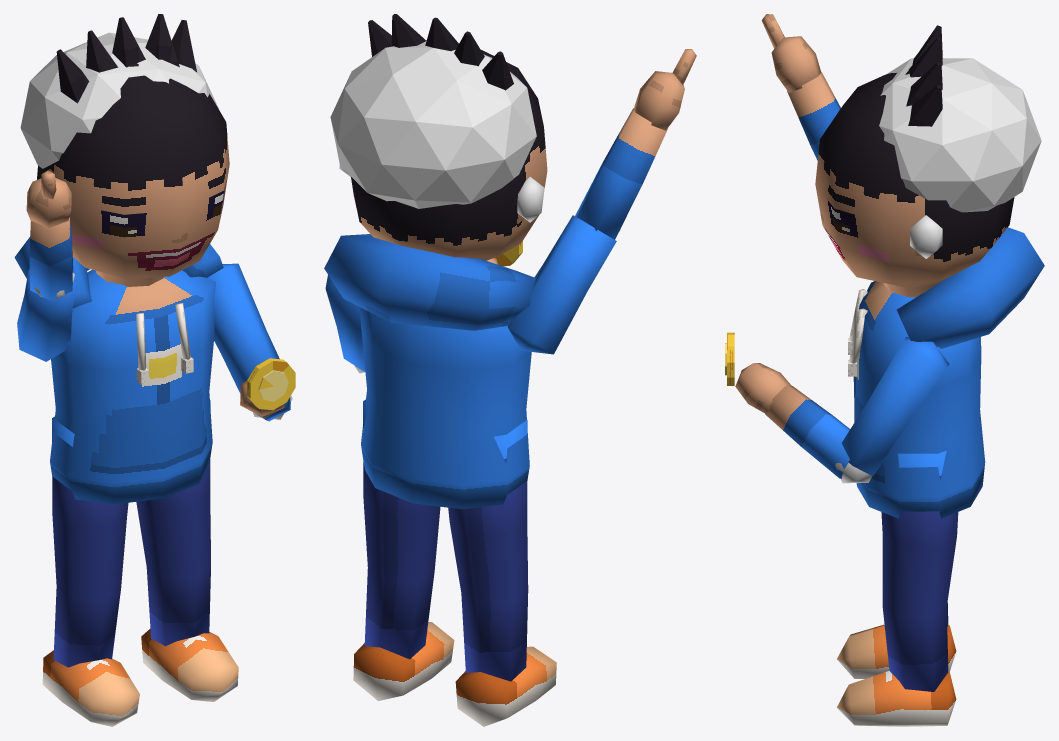
The model's file is Kid Hoodie.fbx.
3 views of the same model, side by side, from view 1: azimuth 30°, elevation 25°; view 2: azimuth 150°, elevation 25°; view 3: azimuth 270°, elevation 25° (orthographic). The views are drawn at different scales.
Visible parts, largest first — view 1: Kid Hoodie torso, Kid Hoodie head, Kid Hoodie leg R.001, Kid Hoodie leg L.001, Kid Hoodie hair hair cap, Kid Hoodie arm L upper, Kid Hoodie shoe L, Kid Hoodie shoe R, Kid Hoodie arm R upper, Kid Hoodie arm R forearm.001, Kid Hoodie hood, Kid Hoodie arm R hand (+9 smaller); view 2: Kid Hoodie torso, Kid Hoodie hair hair cap, Kid Hoodie hood, Kid Hoodie leg R.001, Kid Hoodie leg L.001, Kid Hoodie head, Kid Hoodie arm R upper, Kid Hoodie arm R forearm.001, Kid Hoodie shoe R, Kid Hoodie shoe L, Kid Hoodie arm R hand, Kid Hoodie arm L upper (+5 smaller); view 3: Kid Hoodie head, Kid Hoodie hair hair cap, Kid Hoodie torso, Kid Hoodie leg L.001, Kid Hoodie hood, Kid Hoodie arm L upper, Kid Hoodie shoe L, Kid Hoodie arm L forearm.001, Kid Hoodie shoe R, Kid Hoodie arm R forearm.001, Kid Hoodie arm R hand, Kid Hoodie arm L hand (+4 smaller).
Part boxes in pixels (x1=…): Kid Hoodie torso: x1=50, y1=269, x2=215, y2=504; Kid Hoodie head: x1=37, y1=63, x2=229, y2=286; Kid Hoodie leg R.001: x1=52, y1=416, x2=128, y2=667; Kid Hoodie leg L.001: x1=136, y1=400, x2=210, y2=646; Kid Hoodie hair hair cap: x1=20, y1=32, x2=219, y2=168; Kid Hoodie arm L upper: x1=207, y1=263, x2=279, y2=392; Kid Hoodie shoe L: x1=141, y1=629, x2=238, y2=701; Kid Hoodie shoe R: x1=42, y1=650, x2=139, y2=726; Kid Hoodie arm R upper: x1=17, y1=269, x2=74, y2=361; Kid Hoodie arm R forearm.001: x1=29, y1=217, x2=73, y2=300; Kid Hoodie hood: x1=14, y1=236, x2=223, y2=308; Kid Hoodie arm R hand: x1=26, y1=178, x2=71, y2=228; Kid Hoodie torso: x1=359, y1=307, x2=531, y2=509; Kid Hoodie hair hair cap: x1=330, y1=41, x2=536, y2=208; Kid Hoodie hood: x1=324, y1=234, x2=536, y2=330; Kid Hoodie leg R.001: x1=448, y1=420, x2=528, y2=681; Kid Hoodie leg L.001: x1=363, y1=399, x2=440, y2=659; Kid Hoodie head: x1=351, y1=50, x2=547, y2=260; Kid Hoodie arm R upper: x1=508, y1=215, x2=616, y2=354; Kid Hoodie arm R forearm.001: x1=575, y1=108, x2=667, y2=239; Kid Hoodie shoe R: x1=455, y1=646, x2=556, y2=726; Kid Hoodie shoe L: x1=353, y1=622, x2=454, y2=700; Kid Hoodie arm R hand: x1=634, y1=71, x2=684, y2=130; Kid Hoodie arm L upper: x1=325, y1=275, x2=365, y2=371; Kid Hoodie head: x1=815, y1=71, x2=1014, y2=297; Kid Hoodie hair hair cap: x1=879, y1=58, x2=1041, y2=212; Kid Hoodie torso: x1=853, y1=281, x2=985, y2=518; Kid Hoodie leg L.001: x1=881, y1=450, x2=958, y2=691; Kid Hoodie hood: x1=897, y1=227, x2=1044, y2=348; Kid Hoodie arm L upper: x1=841, y1=337, x2=949, y2=475; Kid Hoodie shoe L: x1=837, y1=671, x2=956, y2=726; Kid Hoodie arm L forearm.001: x1=765, y1=385, x2=850, y2=478; Kid Hoodie shoe R: x1=837, y1=624, x2=956, y2=678; Kid Hoodie arm R forearm.001: x1=787, y1=72, x2=840, y2=160; Kid Hoodie arm R hand: x1=771, y1=36, x2=821, y2=92; Kid Hoodie arm L hand: x1=735, y1=363, x2=791, y2=414.
Size of the model in its own units: 0.5341 by 1.17 by 0.5087.
14 materials, 11 textured.
